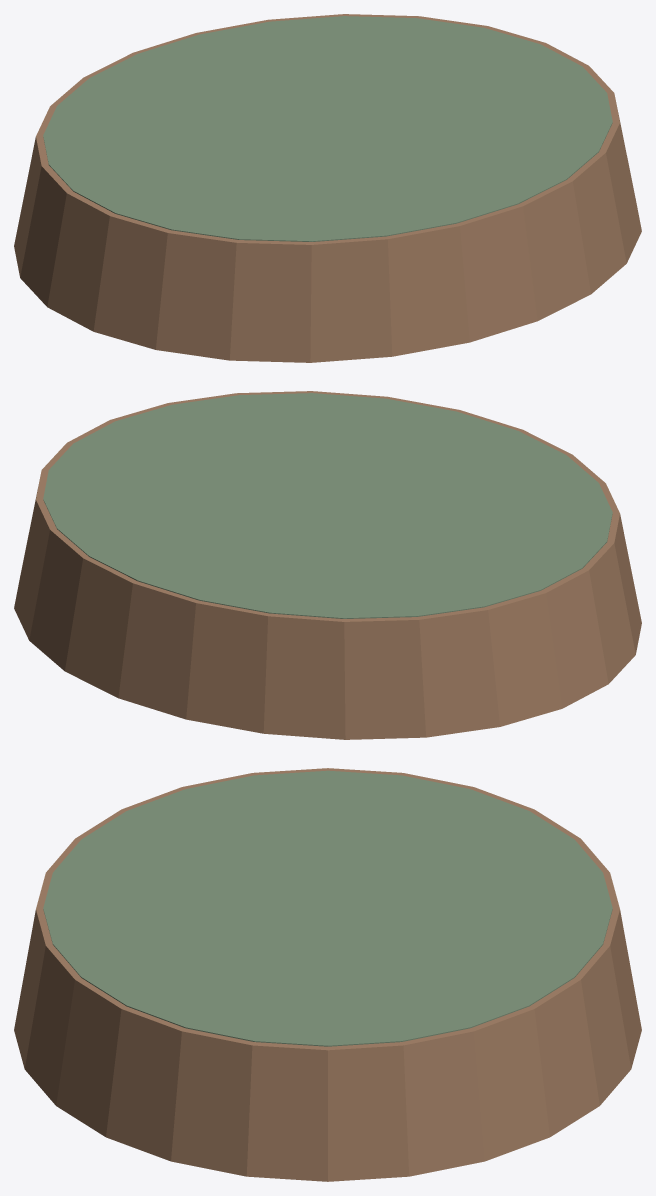
The model's file is sunland_island.glb.
The picture shows the model from 3 angles, top to bottom: view 1: azimuth 30°, elevation 25°; view 2: azimuth 150°, elevation 25°; view 3: azimuth 270°, elevation 25°; orthographic projection. The views are drawn at different scales.
Visible parts, largest first — view 1: GrassyTop, ShoreBank; view 2: GrassyTop, ShoreBank; view 3: GrassyTop, ShoreBank.
Boxes of the visible parts, x1,y1,x2,y2 form: GrassyTop: [43, 16, 612, 241]; ShoreBank: [14, 14, 641, 362]; GrassyTop: [43, 393, 612, 618]; ShoreBank: [14, 391, 641, 739]; GrassyTop: [43, 770, 612, 1046]; ShoreBank: [14, 768, 641, 1181].
Bounding box in the file's own units: 17.2 × 3.23 × 15.05.
